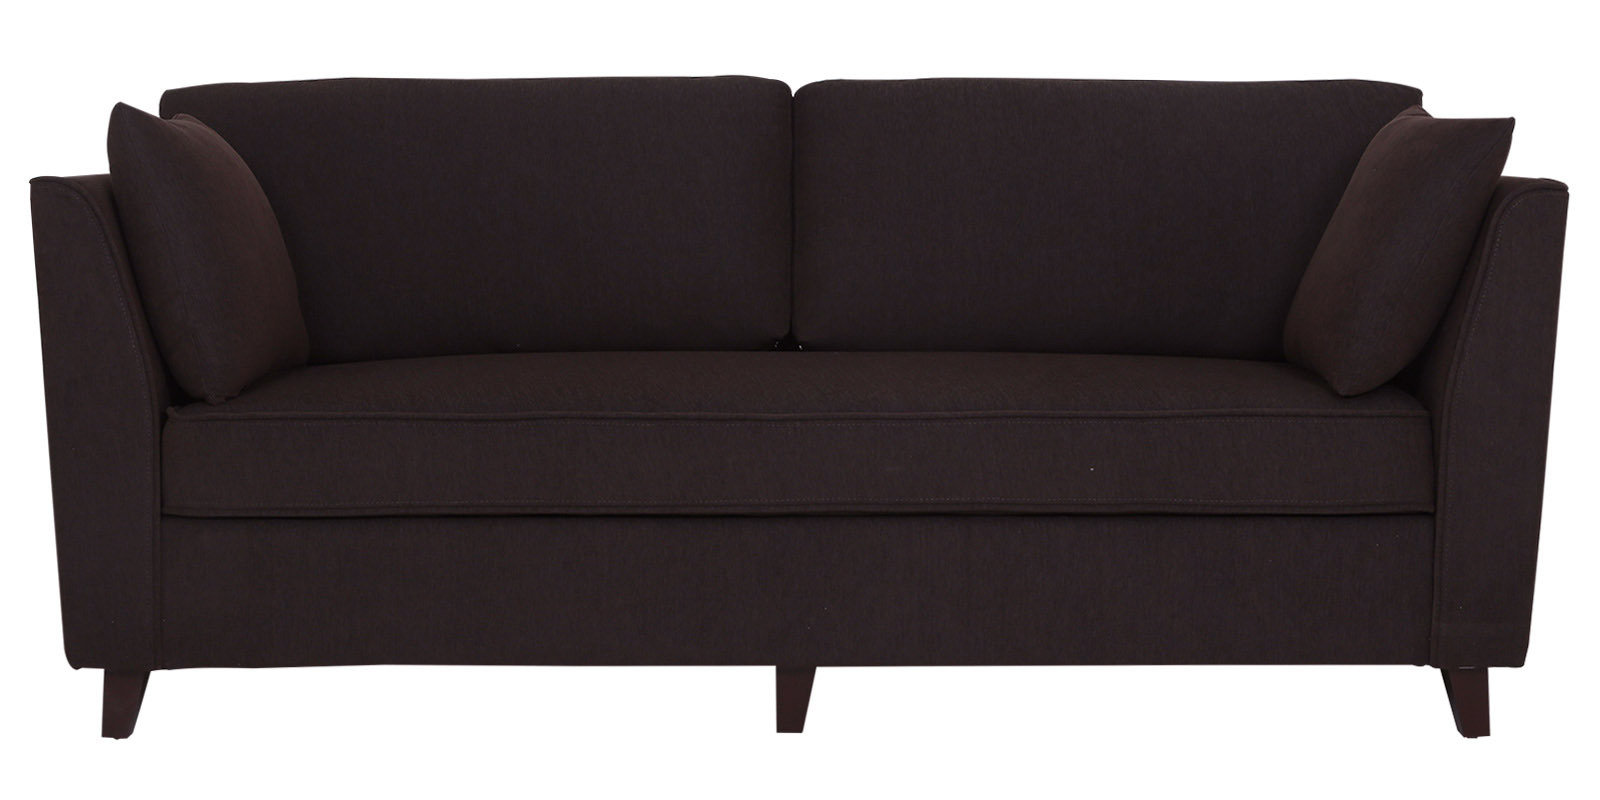Miranda Three Seater Sofa in Chestnut Brown Colour by CasaCraft: (28, 76, 1569, 739)
